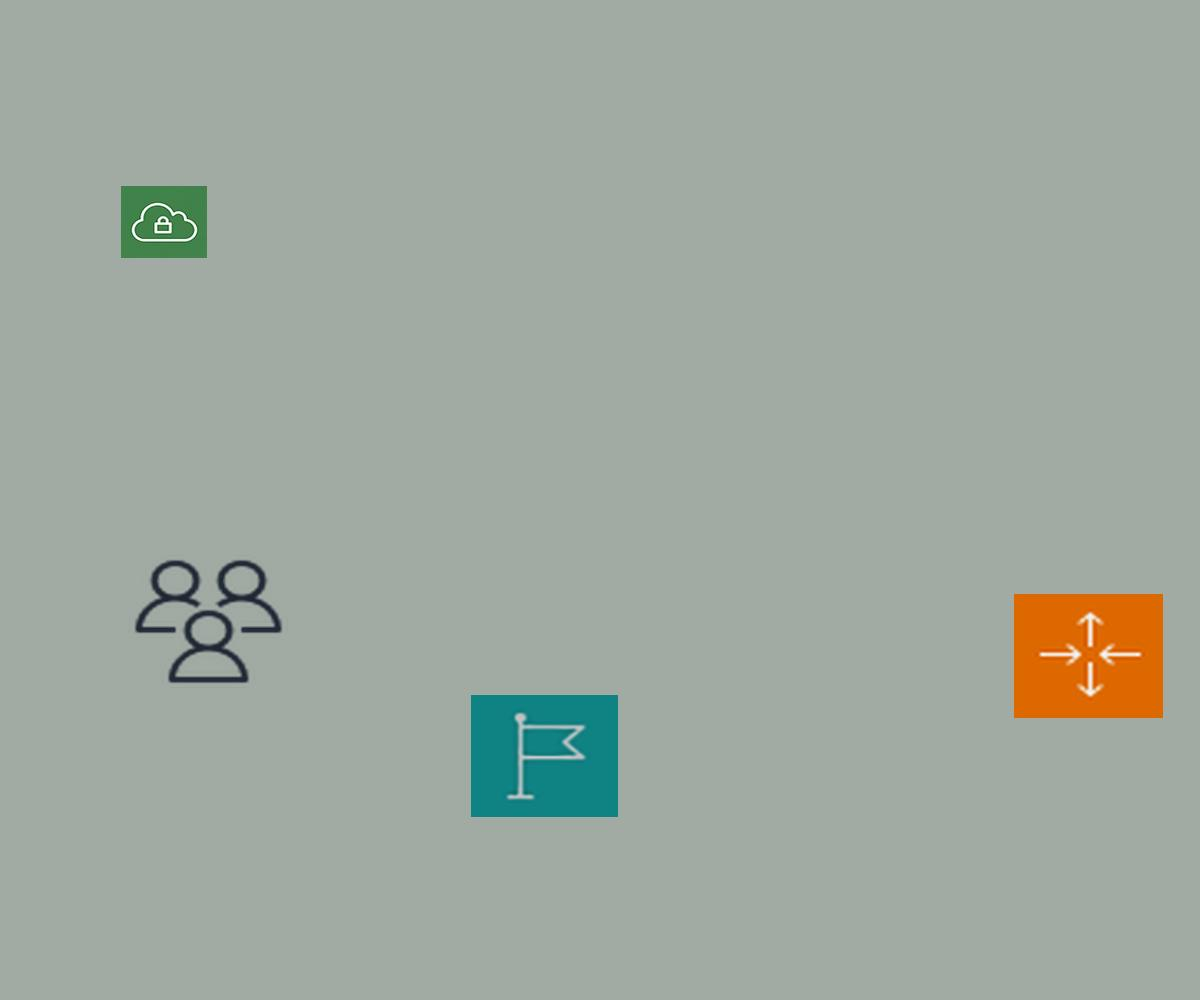AWS-Private_vpc: (121, 186, 207, 258)
AWS-Region: (471, 695, 618, 817)
AWS-Res_Users: (129, 555, 288, 688)
AWS-Scaling-group: (1014, 594, 1163, 718)
